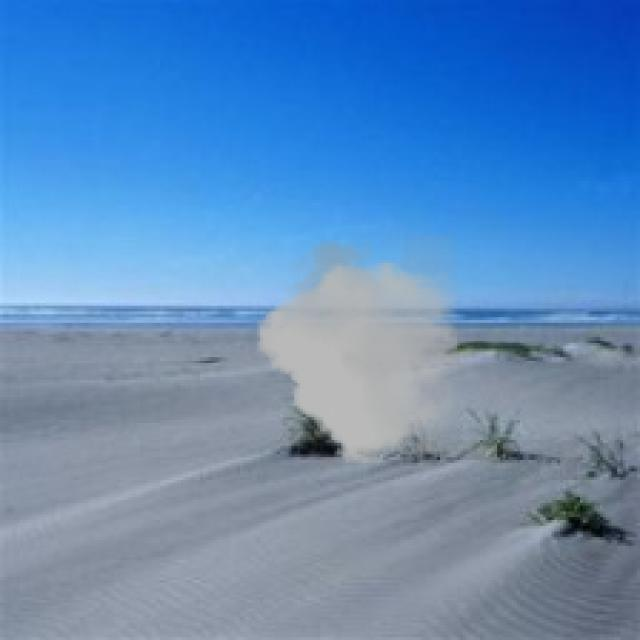smoke: (257, 234, 457, 469)
